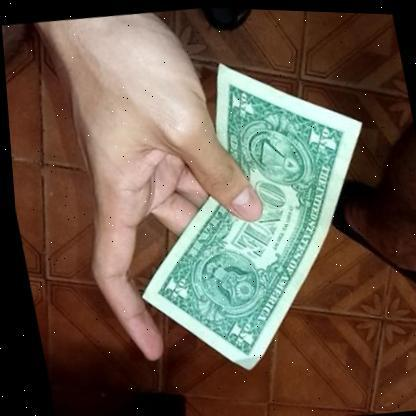one-back: (93, 40, 404, 388)
